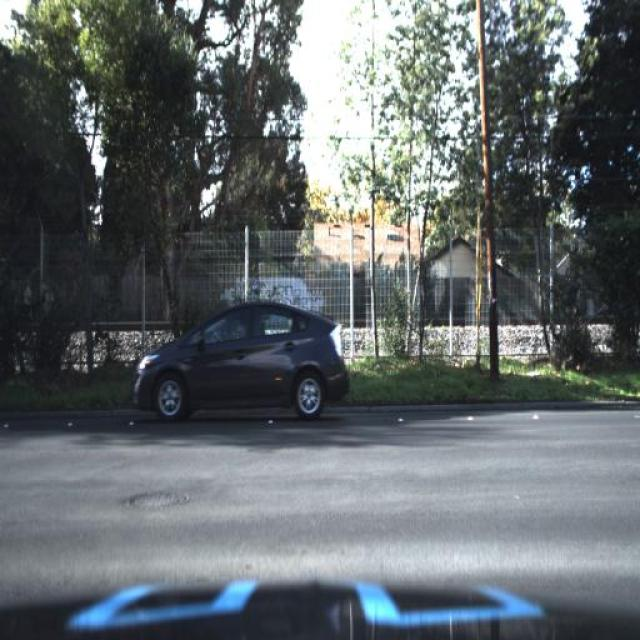car: (134, 300, 350, 429)
